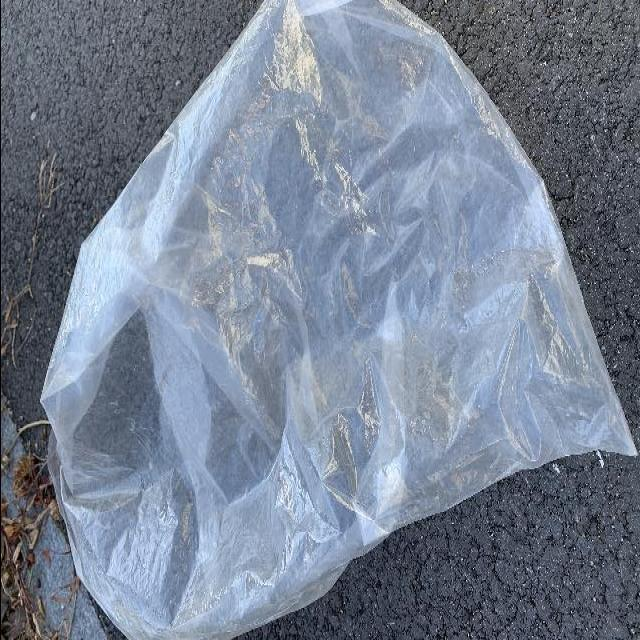plastic bag: (37, 0, 640, 640)
